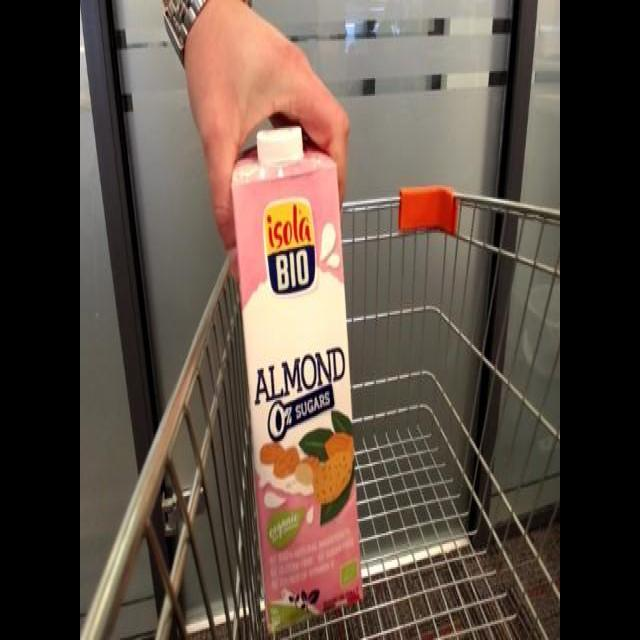Almond Milk: (226, 115, 368, 637)
